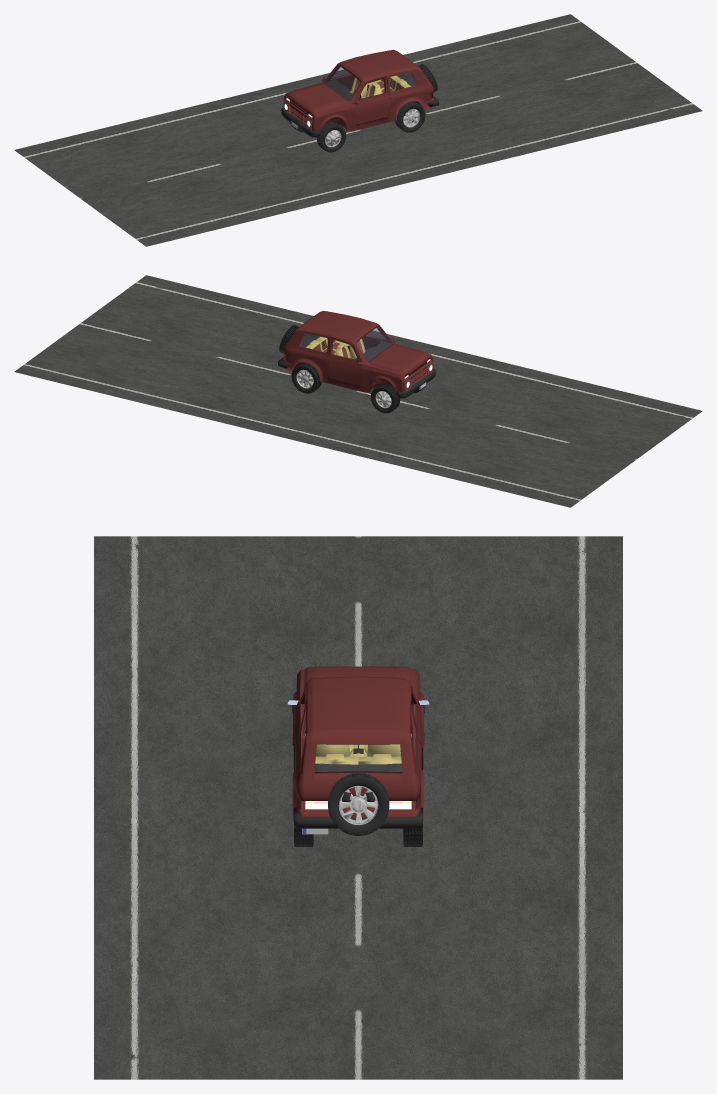
File: lada_niva.glb
3 views of the same model, one above another, from view 1: azimuth 30°, elevation 25°; view 2: azimuth 150°, elevation 25°; view 3: azimuth 270°, elevation 25° (orthographic). The views are drawn at different scales.
Parts seen in each view (by area): view 1: Plane.002_Material.037_0, carroceria_Material.001_0, carroceria_Material.004_0, carroceria_vidro_0, Cylinder.002_Material.005_0, bancos_Material.026_0; view 2: Plane.002_Material.037_0, carroceria_Material.001_0, carroceria_Material.004_0, carroceria_vidro_0, Cylinder.002_Material.005_0, bancos_Material.026_0; view 3: Plane.002_Material.037_0, carroceria_Material.001_0, carroceria_Material.004_0, carroceria_vidro_0, bancos_Material.026_0, Cylinder.003_Material.038_0.
Boxes of the visible parts, <box> form: Plane.002_Material.037_0: <box>14,14,702,246</box>; carroceria_Material.001_0: <box>283,49,434,131</box>; carroceria_Material.004_0: <box>281,64,438,152</box>; carroceria_vidro_0: <box>324,66,415,100</box>; Cylinder.002_Material.005_0: <box>325,108,420,147</box>; bancos_Material.026_0: <box>350,75,410,98</box>; Plane.002_Material.037_0: <box>14,275,702,507</box>; carroceria_Material.001_0: <box>282,310,433,392</box>; carroceria_Material.004_0: <box>278,325,435,413</box>; carroceria_vidro_0: <box>301,327,392,361</box>; Cylinder.002_Material.005_0: <box>296,369,391,408</box>; bancos_Material.026_0: <box>306,336,365,359</box>; Plane.002_Material.037_0: <box>94,536,622,1079</box>; carroceria_Material.001_0: <box>287,666,429,822</box>; carroceria_Material.004_0: <box>292,705,424,846</box>; carroceria_vidro_0: <box>303,700,413,772</box>; bancos_Material.026_0: <box>305,733,411,764</box>; Cylinder.003_Material.038_0: <box>338,785,378,824</box>.
Size of the model in its own units: 20.91 by 2.29 by 8.61.
31 materials, 1 textured.
